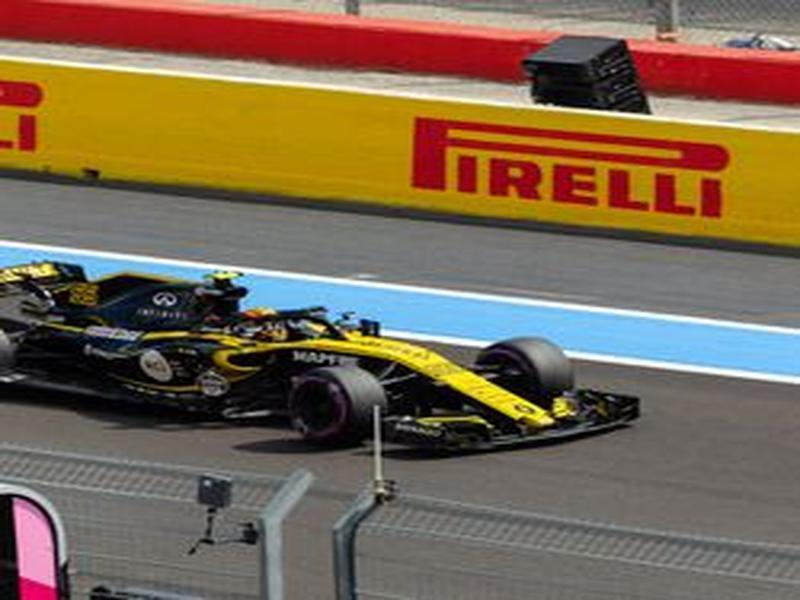f1: (3, 234, 642, 465)
